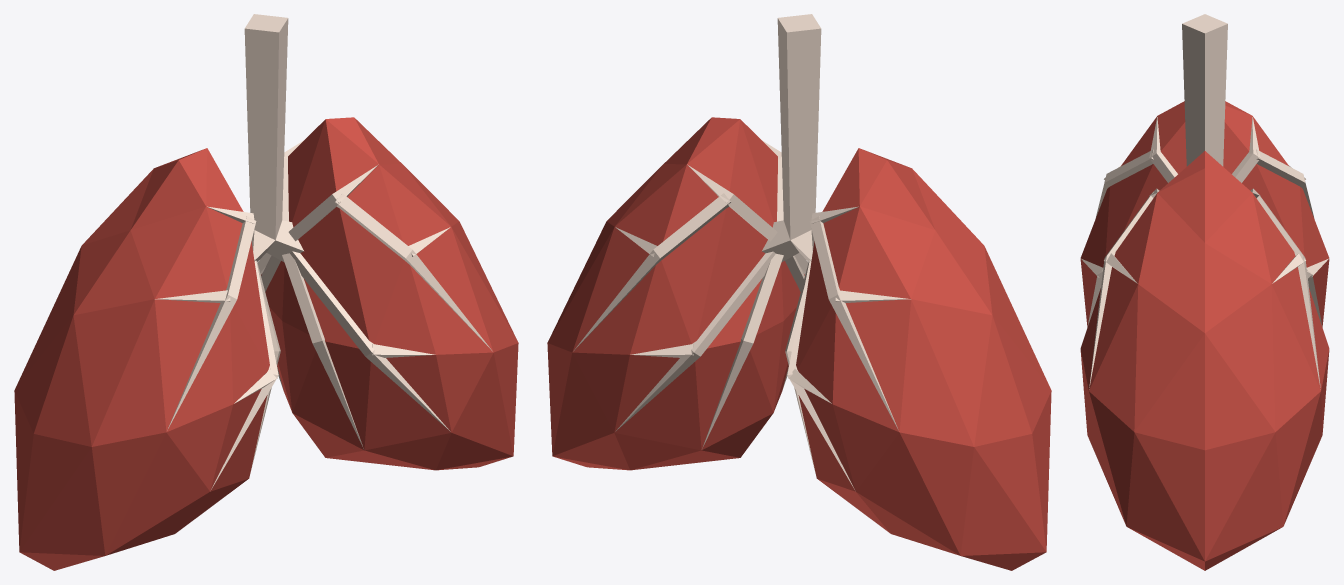
Rendered from lung.FBX.
3 renders of one model, left to right at view 1: azimuth 30°, elevation 25°; view 2: azimuth 150°, elevation 25°; view 3: azimuth 270°, elevation 25°, orthographic. The views are drawn at different scales.
Parts seen in each view (by area): view 1: lung; view 2: lung; view 3: lung.
Boxes of the visible parts, bbox=[...] form: lung: bbox=[14, 14, 518, 570]; lung: bbox=[547, 14, 1051, 570]; lung: bbox=[1080, 14, 1329, 570].
Size of the model in its own units: 0.5639 by 0.5407 by 0.2696.
